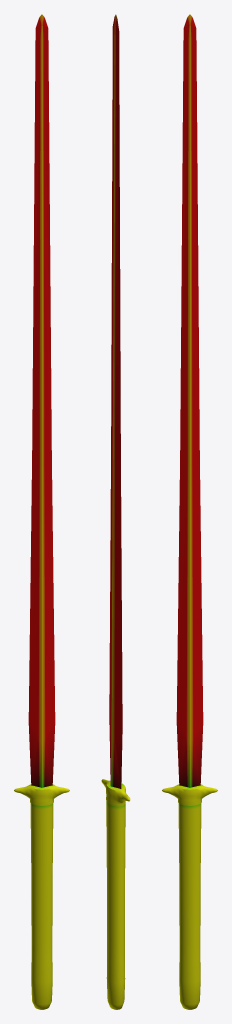
File: chinese_sword.obj
The picture shows the model from 3 angles, left to right: view 1: azimuth 90°, elevation 25°; view 2: azimuth 210°, elevation 25°; view 3: azimuth 270°, elevation 25°; orthographic projection.
Visible parts, largest first — view 1: Cube, Cylinder.001, Cylinder.002; view 2: Cube, Cylinder.001, Cylinder.002; view 3: Cube, Cylinder.001, Cylinder.002.
Boxes of the visible parts, box(x1,y1,x2,y2) form: Cube: box(28, 14, 55, 787); Cylinder.001: box(30, 803, 53, 1009); Cylinder.002: box(14, 784, 69, 805); Cube: box(109, 14, 122, 788); Cylinder.001: box(106, 802, 125, 1009); Cylinder.002: box(101, 779, 130, 806); Cube: box(176, 14, 203, 787); Cylinder.001: box(178, 803, 201, 1009); Cylinder.002: box(162, 784, 217, 805).
Bounding box in the file's own units: 0.0286 × 1.68 × 0.0858.
